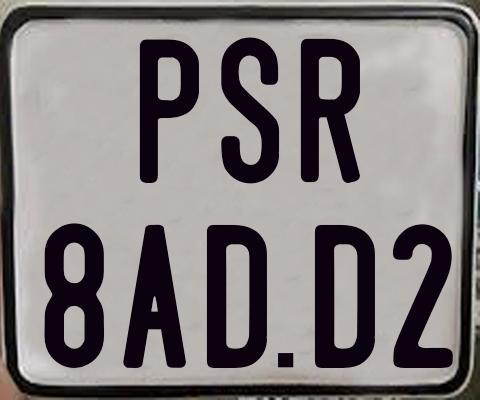2: (391, 221, 456, 370)
8: (42, 222, 107, 371)
A: (123, 225, 189, 371)
D: (313, 223, 377, 372), (205, 224, 269, 371)
P: (137, 36, 200, 185)
R: (298, 36, 359, 181)
S: (219, 34, 279, 183)
